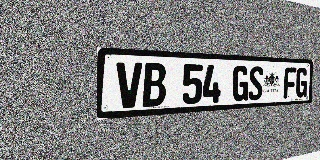4: (202, 65, 221, 103)
5: (182, 64, 203, 105)
B: (143, 63, 166, 107)
F: (283, 67, 296, 99)
G: (232, 66, 249, 102), (295, 68, 308, 98)
S: (248, 66, 264, 101)
V: (116, 62, 142, 109)
